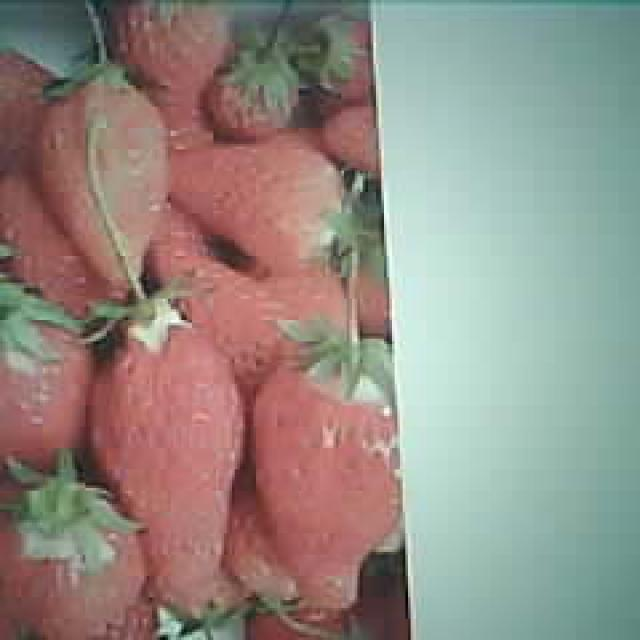ripe: (97, 330, 248, 580), (258, 354, 400, 602)
